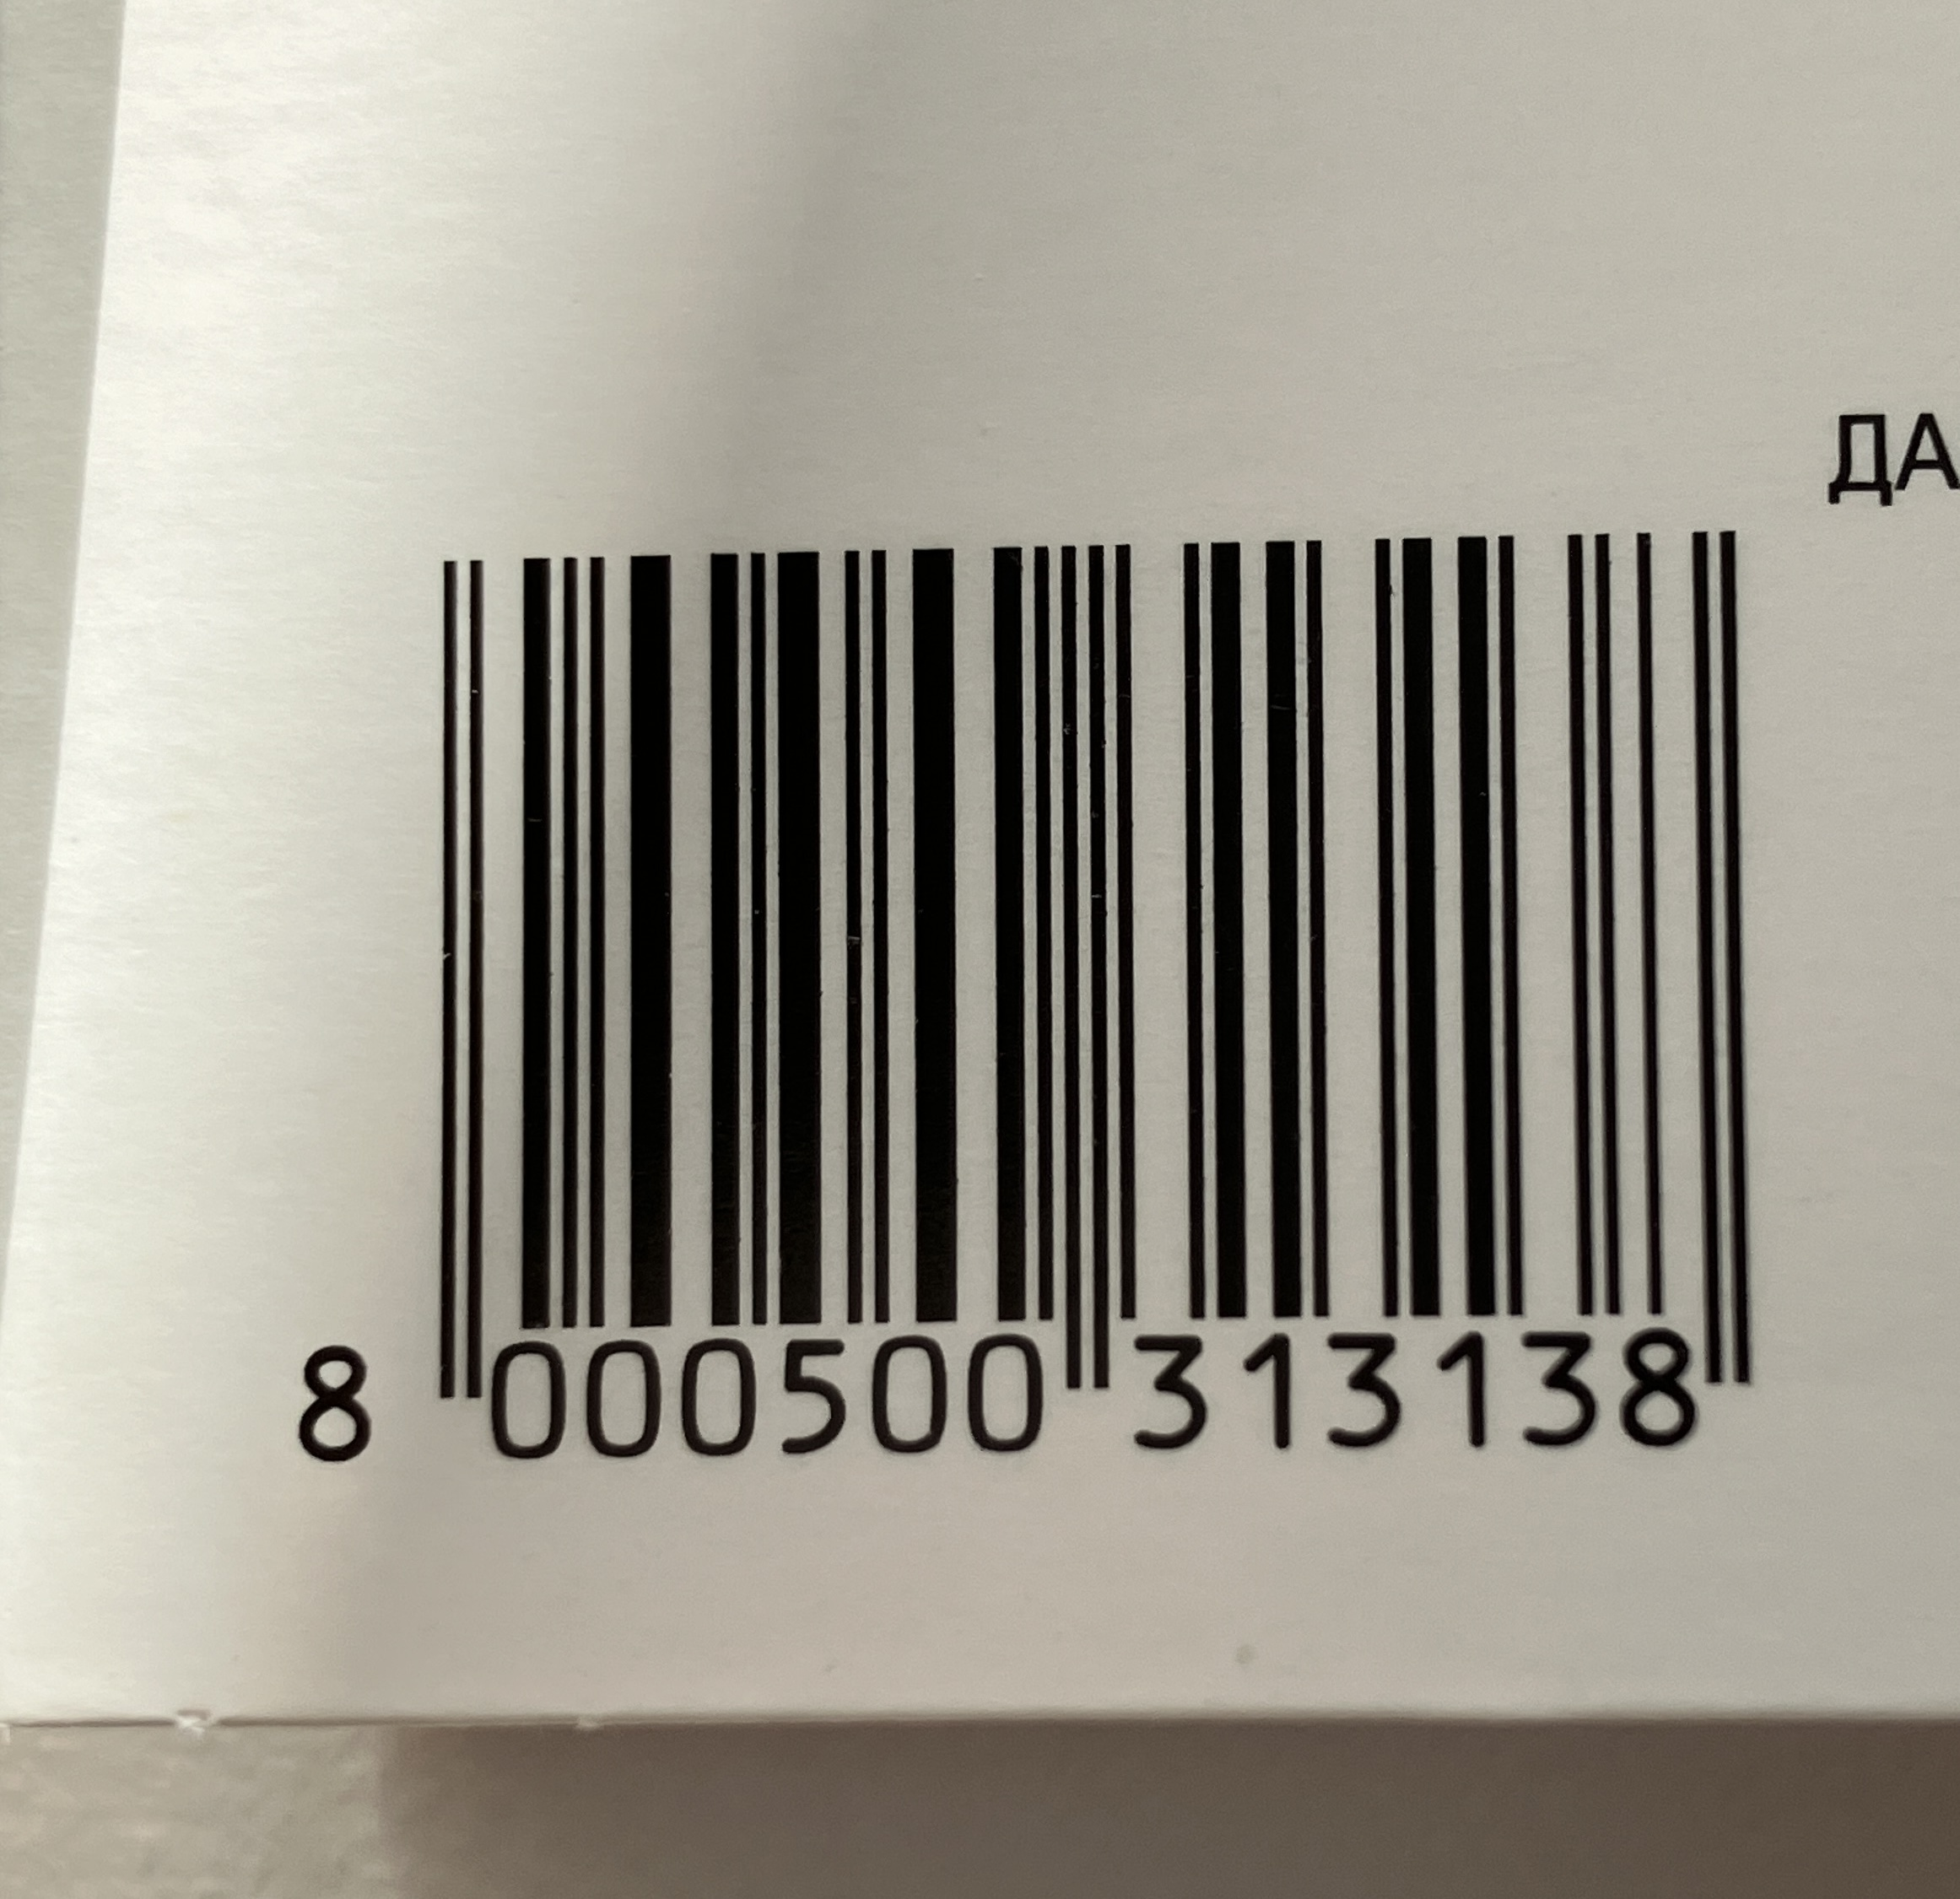1d: (441, 532, 1752, 1402)
